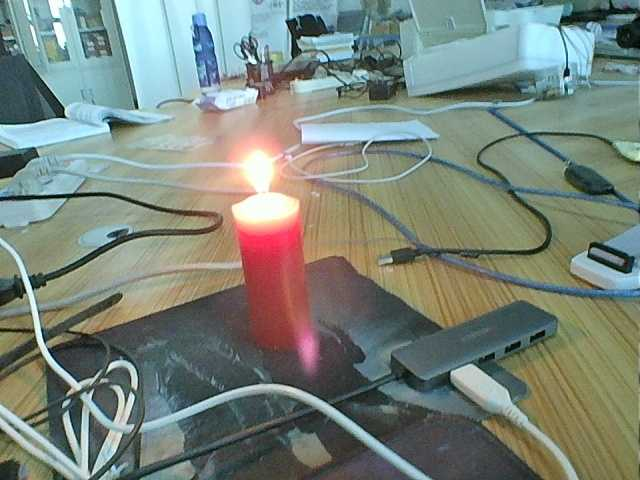candle: (233, 220, 320, 347)
fire: (238, 151, 289, 215)
